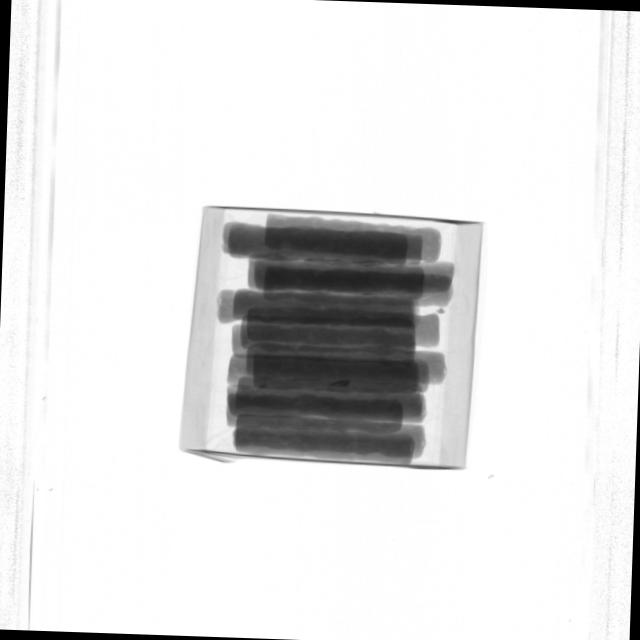ym: (329, 379, 352, 387), (436, 307, 446, 314), (258, 384, 268, 390)
